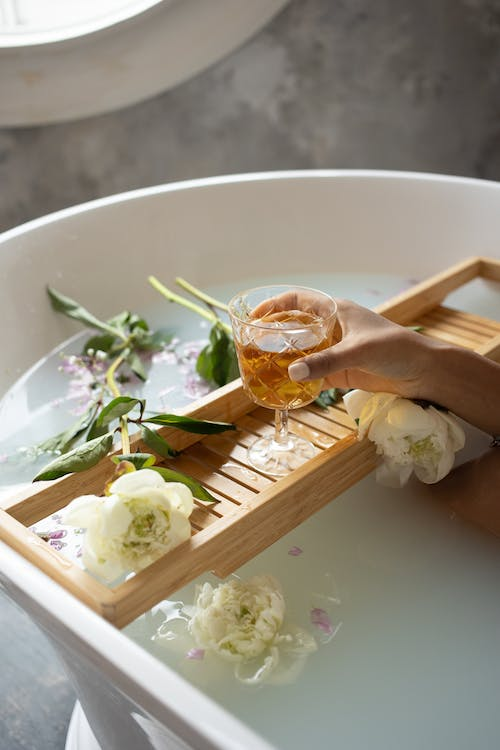alcohol: (227, 283, 338, 477)
